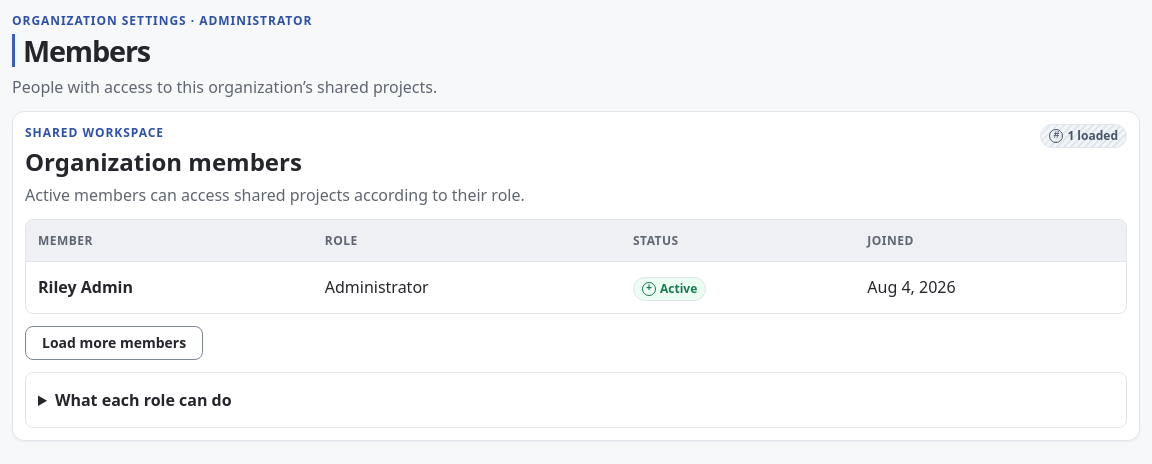
Test case: organization settings › loads additional authorized member pages using only the server cursor
What coordinates should you click on to do the following:
click the button "Load more members"
I would click on:
 (114, 343)
Its box is [25, 326, 203, 360].
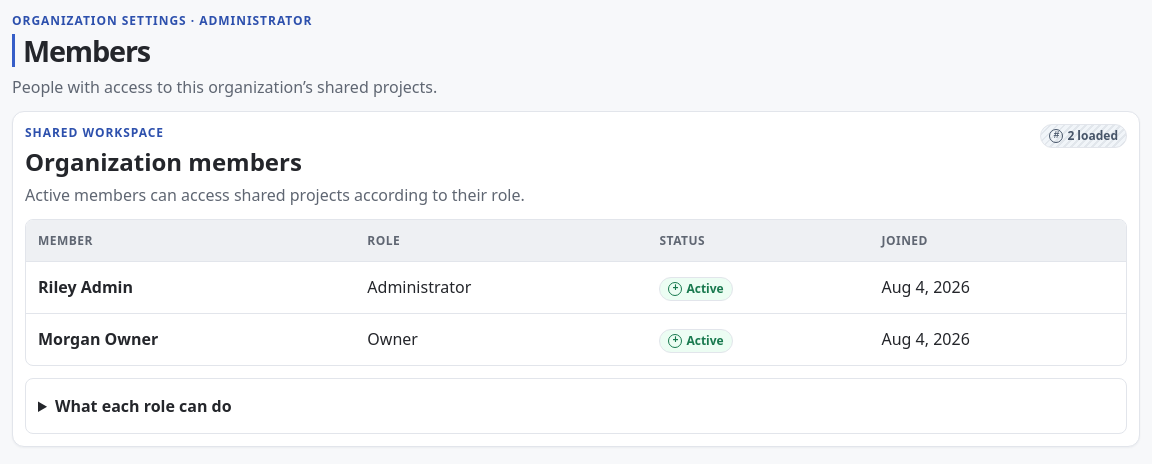
Expected: the column heading "Riley Admin" is shown, [26, 262, 355, 313]
Expected: the column heading "Morgan Owner" is shown, [26, 313, 355, 364]
